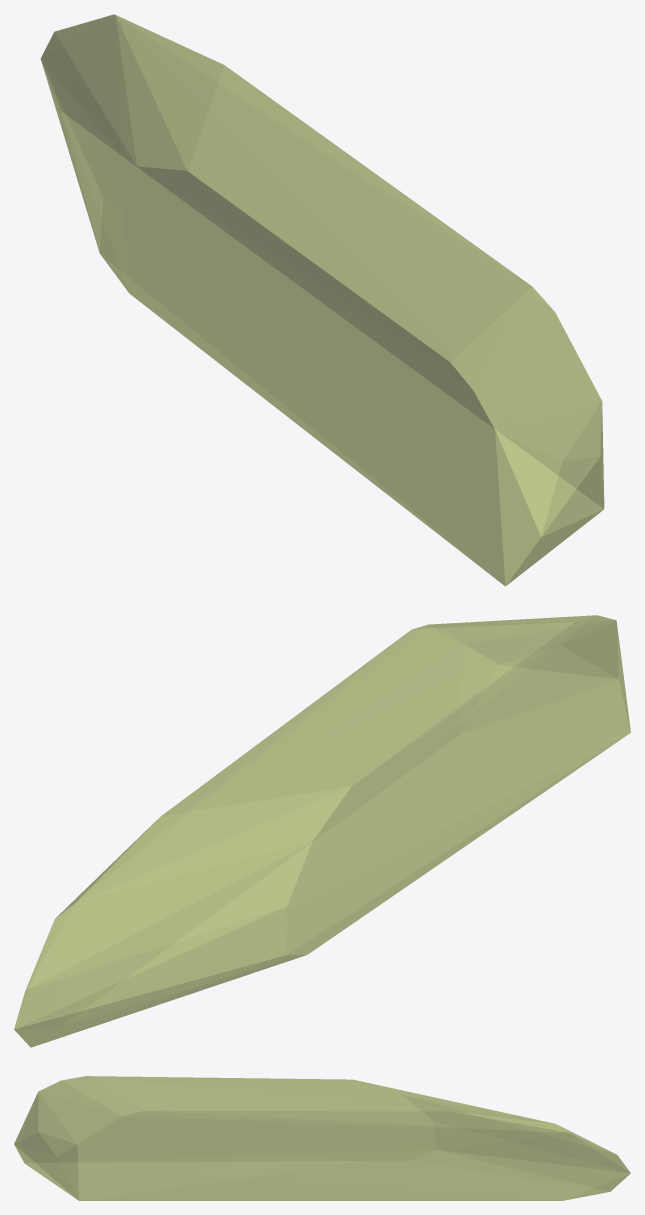
3 views of the same model, one above another, from view 1: azimuth 30°, elevation 25°; view 2: azimuth 150°, elevation 25°; view 3: azimuth 270°, elevation 25° (orthographic). The views are drawn at different scales.
Visible parts, largest first — view 1: Shape_IndexedFaceSet.002_Shape_IndexedFaceSet.16469; view 2: Shape_IndexedFaceSet.002_Shape_IndexedFaceSet.16469; view 3: Shape_IndexedFaceSet.002_Shape_IndexedFaceSet.16469.
Part boxes in pixels (bbox=[...]): Shape_IndexedFaceSet.002_Shape_IndexedFaceSet.16469: bbox=[40, 14, 604, 586]; Shape_IndexedFaceSet.002_Shape_IndexedFaceSet.16469: bbox=[14, 615, 630, 1047]; Shape_IndexedFaceSet.002_Shape_IndexedFaceSet.16469: bbox=[14, 1076, 630, 1200].
Bounding box in the file's own units: 0.0517 × 0.0573 × 0.3603.
